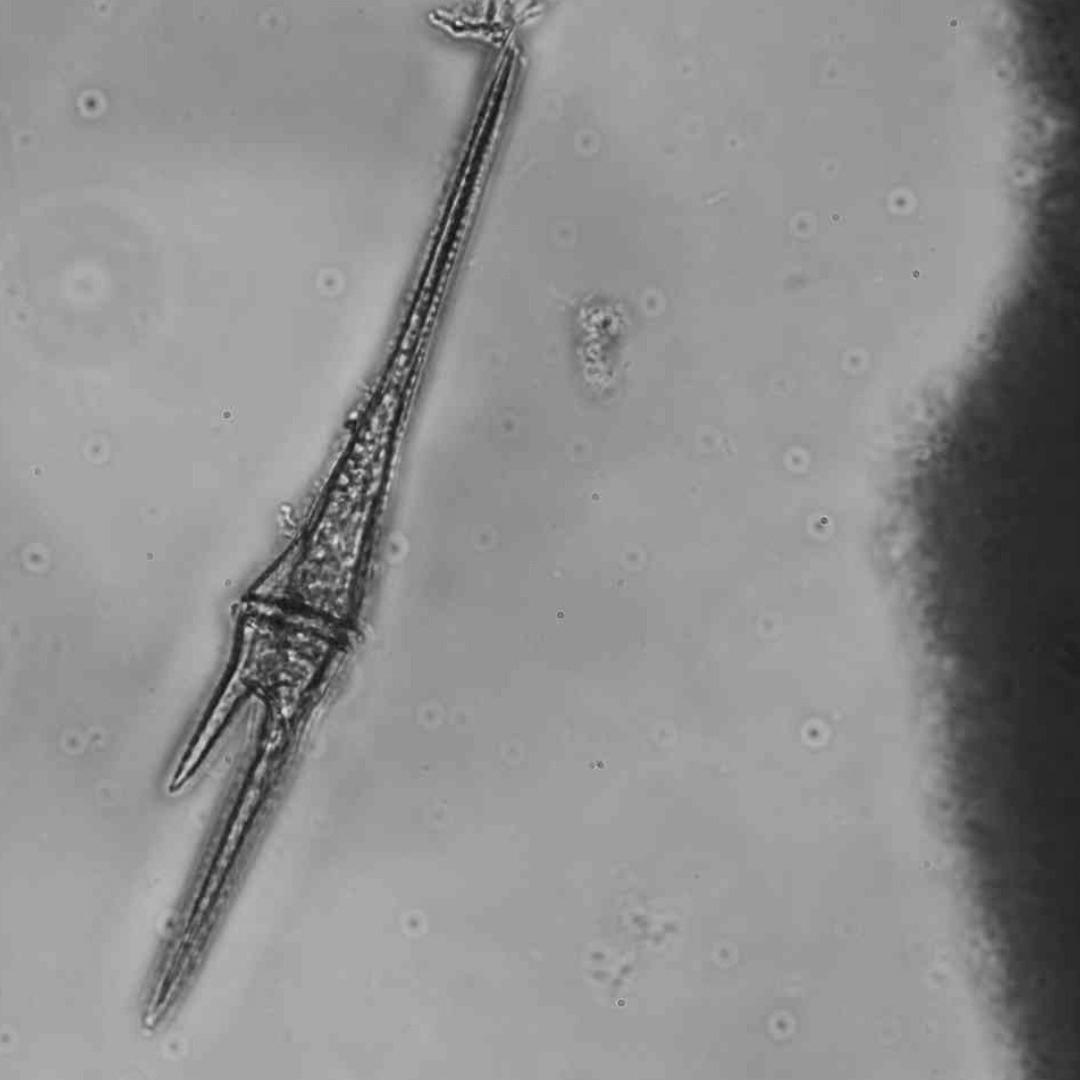ceratium_furca: (142, 27, 523, 1030)
